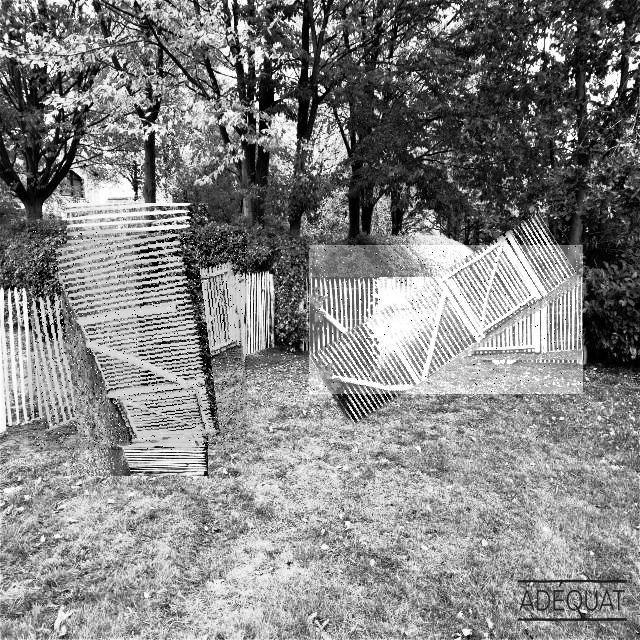fences: (28, 230, 247, 450), (309, 245, 583, 394)
